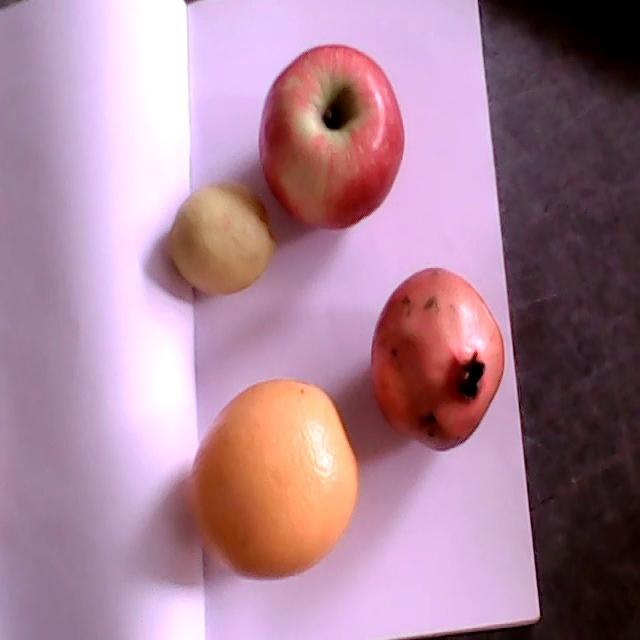apple: (258, 45, 405, 229)
lemon: (163, 181, 277, 296)
orange: (189, 379, 357, 581)
pomegranate: (371, 267, 505, 451)
